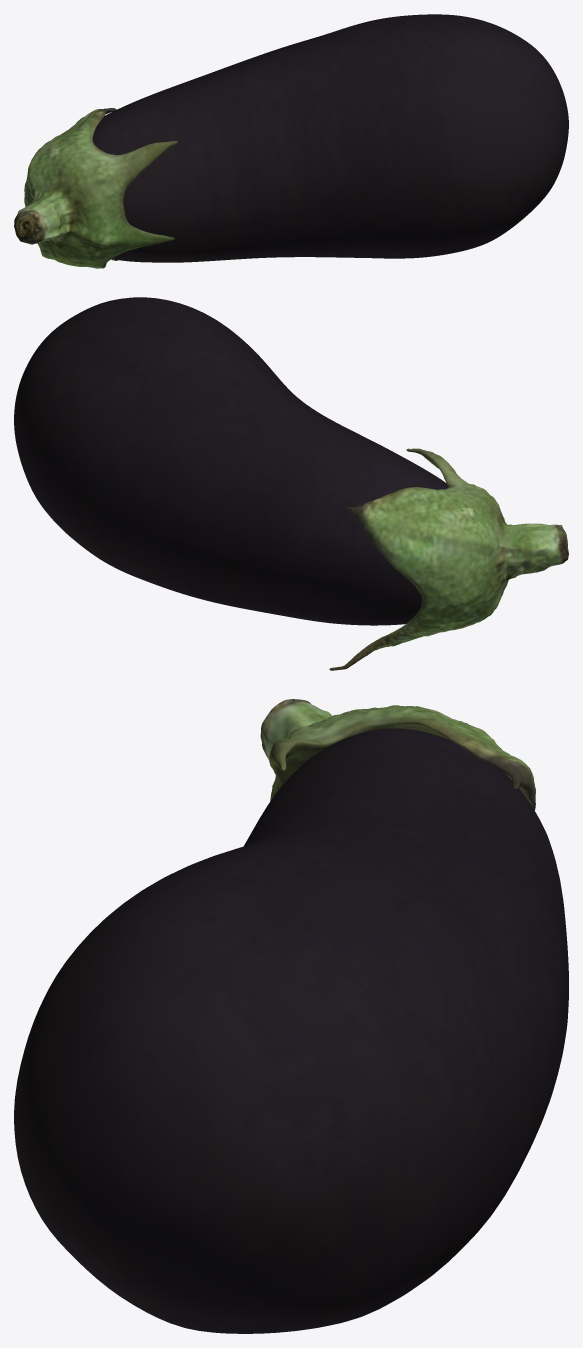
File: Baqlajon.fbx
3 renders of one model, top to bottom at view 1: azimuth 30°, elevation 25°; view 2: azimuth 150°, elevation 25°; view 3: azimuth 270°, elevation 25°, orthographic. The views are drawn at different scales.
Visible parts, largest first — view 1: Open3DModel (1) (3); view 2: Open3DModel (1) (3); view 3: Open3DModel (1) (3).
Part boxes in pixels (x1=…): Open3DModel (1) (3): x1=14, y1=14, x2=568, y2=268; Open3DModel (1) (3): x1=14, y1=297, x2=568, y2=670; Open3DModel (1) (3): x1=14, y1=699, x2=568, y2=1333.
Size of the model in its own units: 833 by 344 by 393.
1 material, 1 textured.
